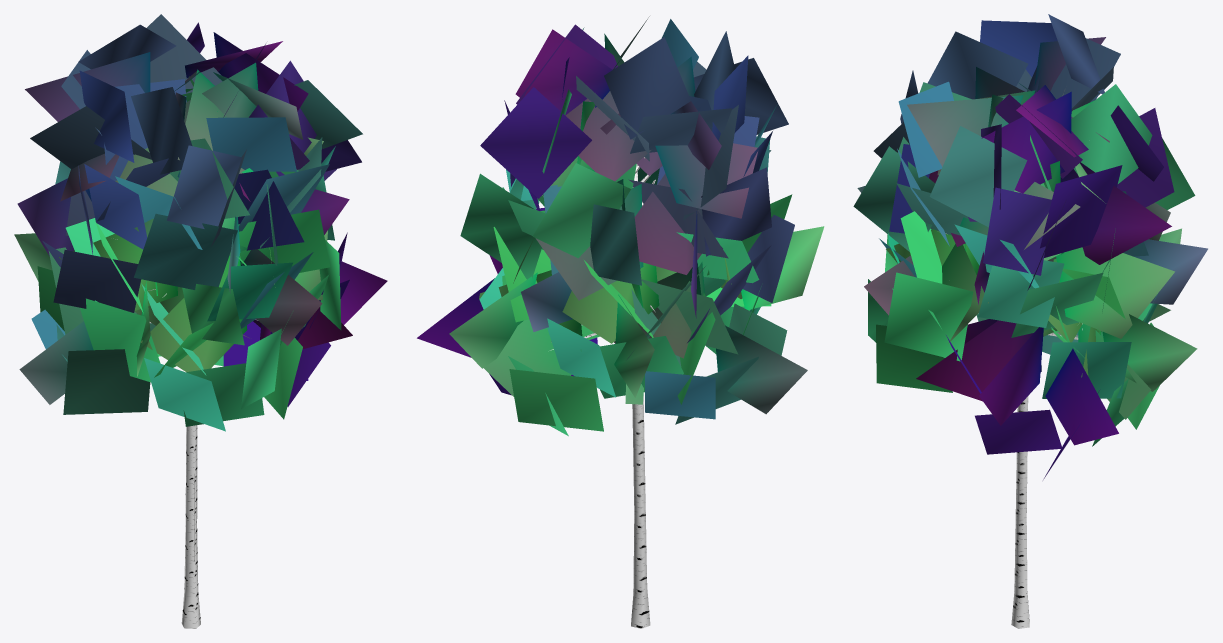
The model's file is Birch_LOD2.fbx.
3 views of the same model, side by side, from view 1: azimuth 30°, elevation 25°; view 2: azimuth 150°, elevation 25°; view 3: azimuth 270°, elevation 25° (orthographic). The views are drawn at different scales.
Visible parts, largest first — view 1: Foliage, Bark; view 2: Foliage, Bark; view 3: Foliage, Bark.
Part boxes in pixels (x1=…): Foliage: x1=14, y1=14, x2=387, y2=431; Bark: x1=113, y1=238, x2=257, y2=628; Foliage: x1=417, y1=16, x2=824, y2=436; Bark: x1=542, y1=157, x2=655, y2=628; Foliage: x1=853, y1=14, x2=1207, y2=479; Bark: x1=945, y1=90, x2=1082, y2=628.
Size of the model in its own units: 8.42 by 14.03 by 7.61.
